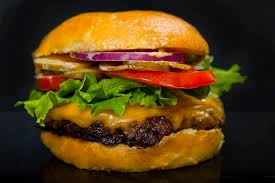hamburger: (30, 9, 228, 175)
